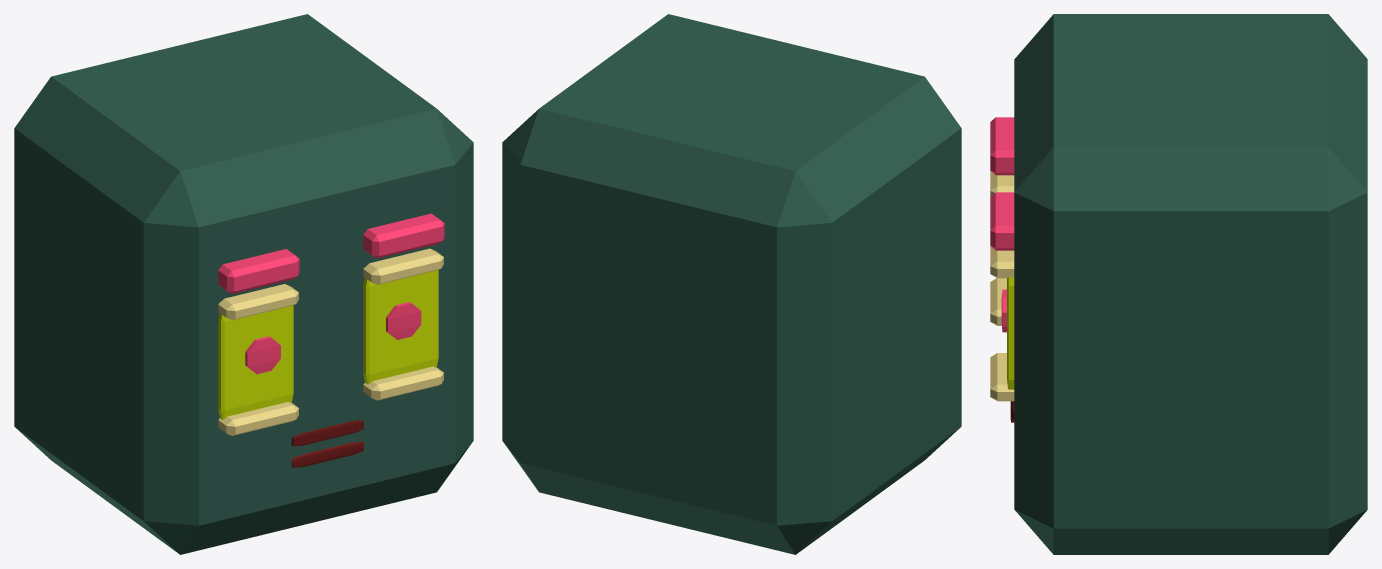
File: ammm.glb
3 views of the same model, side by side, from view 1: azimuth 30°, elevation 25°; view 2: azimuth 150°, elevation 25°; view 3: azimuth 270°, elevation 25° (orthographic). The views are drawn at different scales.
Parts seen in each view (by area): view 1: head, Cube.002, EyeBrown, lip_up, lip_up.001, eye, eyes, mouth', mouth; view 2: head; view 3: head, EyeBrown, lip_up.001, lip_up, Cube.002.
Boxes of the visible parts, box(x1,y1,x2,y2) form: head: box(14, 14, 473, 554); Cube.002: box(218, 270, 438, 419); EyeBrown: box(218, 213, 444, 294); lip_up: box(218, 248, 443, 320); lip_up.001: box(218, 366, 443, 435); eye: box(386, 302, 421, 339); eyes: box(245, 336, 280, 374); mouth': box(291, 441, 363, 467); mouth: box(291, 420, 363, 446); head: box(502, 14, 961, 554); head: box(1014, 14, 1367, 554); EyeBrown: box(990, 117, 1014, 250); lip_up.001: box(990, 278, 1014, 401); lip_up: box(990, 171, 1014, 278); Cube.002: box(1007, 277, 1014, 389).
Size of the model in its own units: 0.7804 by 0.8675 by 0.7278.
